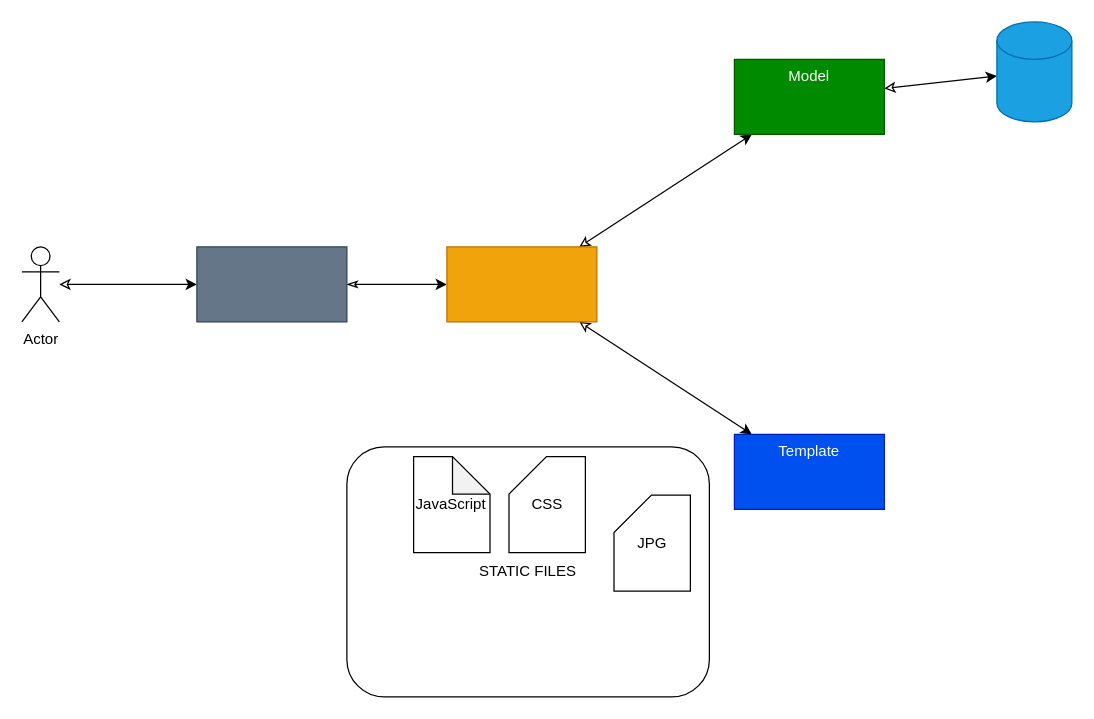
Some shapes in this 1094 by 719 pixel diagram are drawn without their labels. Here are the shapes that lost their labels. From the top down, the centre of each, then its label:
At [1034,71]: "DB".
At [271,284]: "urls.py ROOT_URL_CONF".
At [521,284]: "View".
